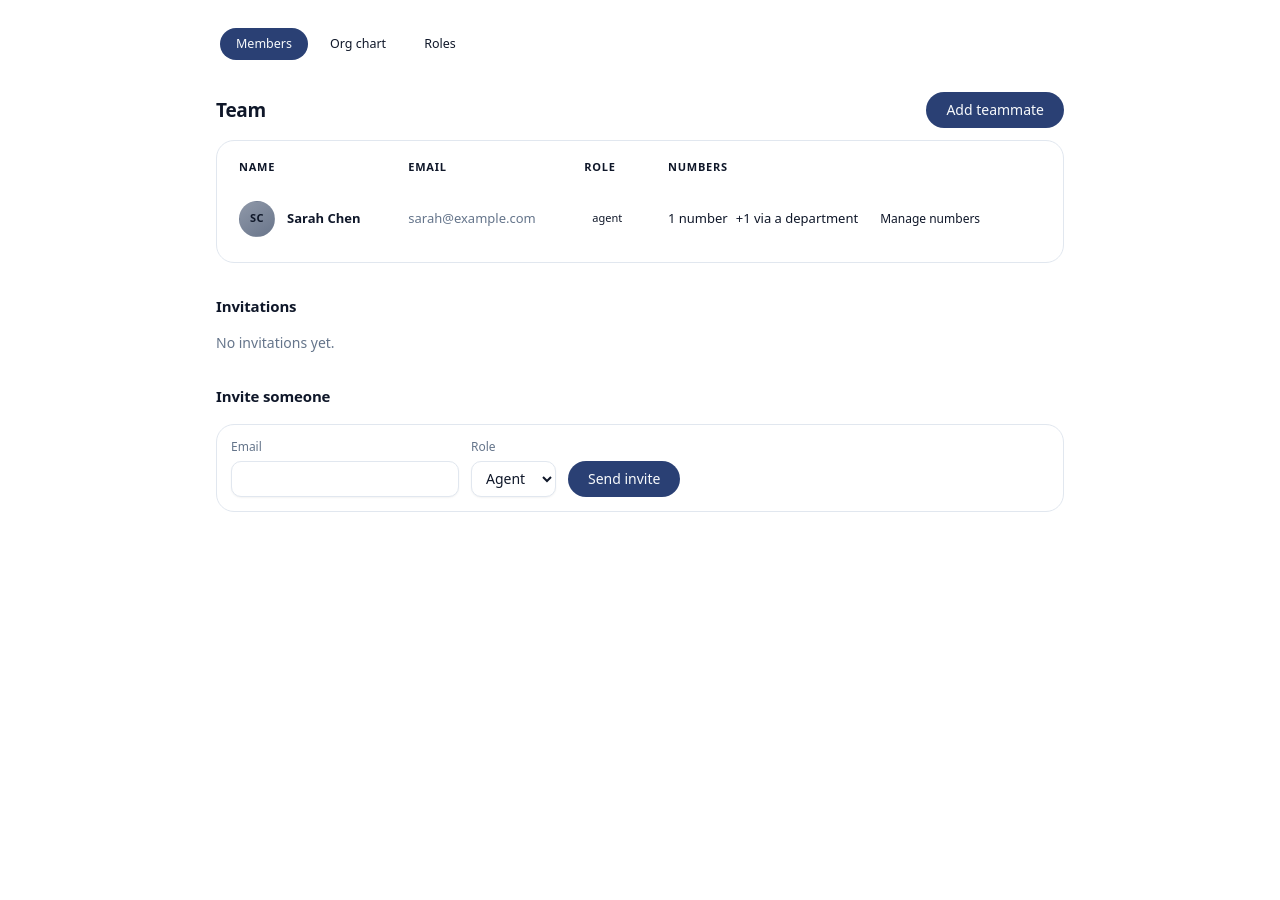
it: TeamPage add teammate › a number someone already holds is never offered
The image size is (1280, 900).
Step 1. Click the button "Add teammate" → (995,110), box [926,92,1064,128]
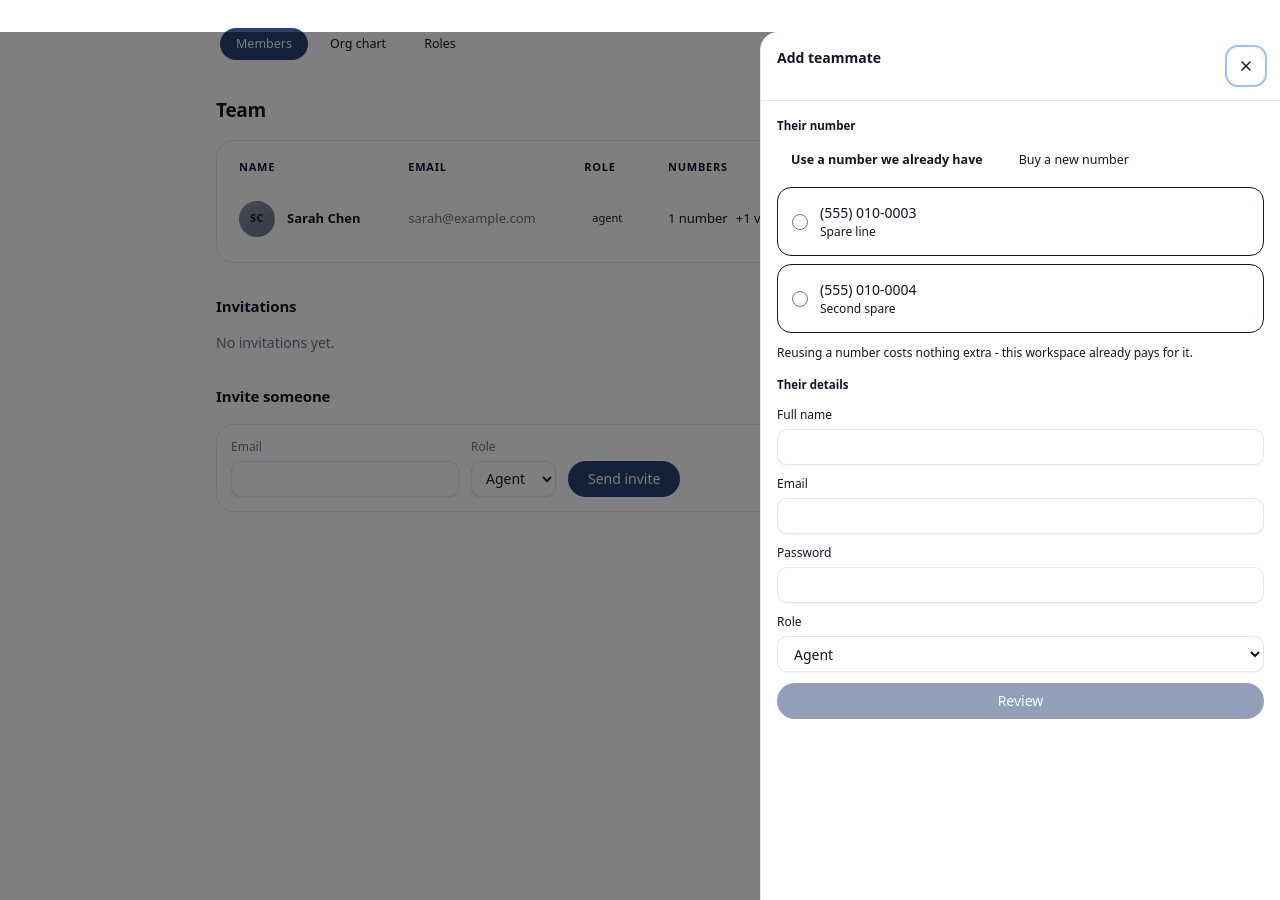
Check: the radio button with aria-label "Use (555) 010-0003" is shown, box [792,214,808,230]
Check: the radio button with aria-label "Use (555) 010-0004" is shown, box [792,290,808,306]
